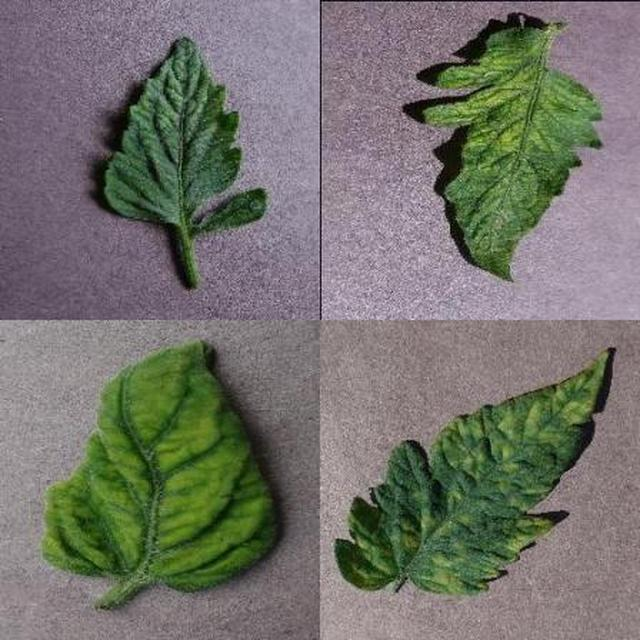Mosaic Virus Leaf: (229, 192, 640, 640)
